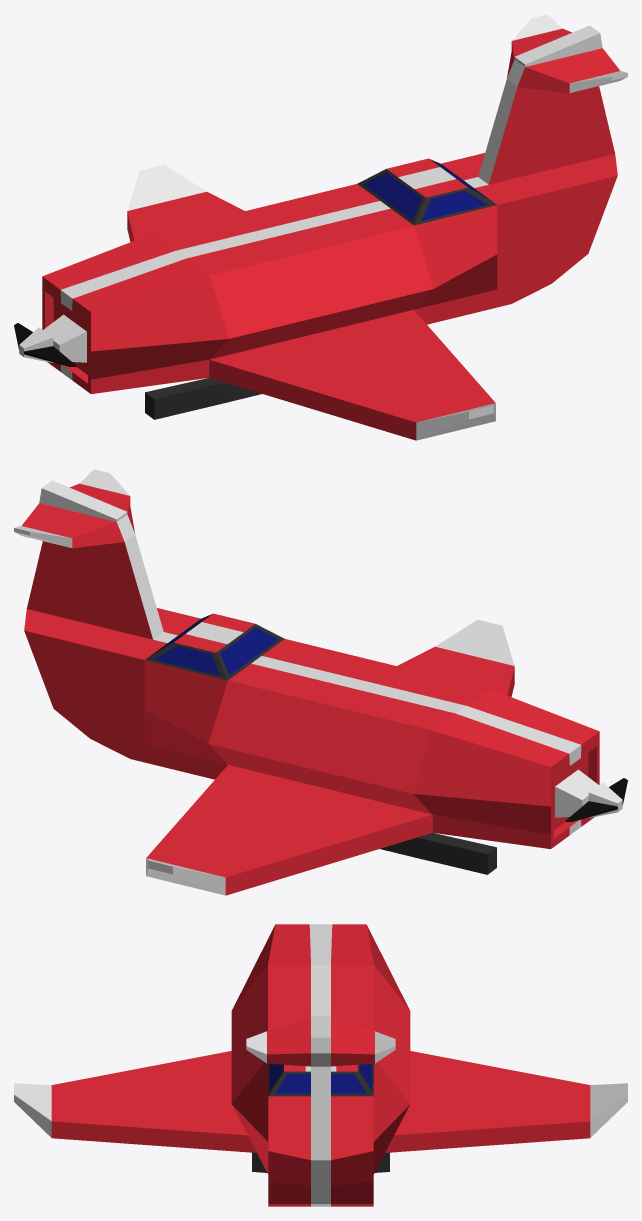
Rendered from Shark.fbx.
3 renders of one model, top to bottom at view 1: azimuth 30°, elevation 25°; view 2: azimuth 150°, elevation 25°; view 3: azimuth 270°, elevation 25°, orthographic. The views are drawn at different scales.
Visible parts, largest first — view 1: Cube, Cube.001; view 2: Cube, Cube.001; view 3: Cube.
Part boxes in pixels (bbox=[...]): Cube: bbox=[42, 14, 627, 440]; Cube.001: bbox=[14, 323, 76, 366]; Cube: bbox=[14, 469, 599, 895]; Cube.001: bbox=[565, 778, 627, 821]; Cube: bbox=[14, 924, 627, 1206].
Bounding box in the file's own units: 1201 × 483 × 1165.
